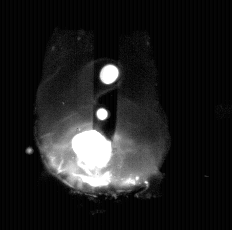arame: (93, 0, 118, 141)
poca: (35, 0, 167, 230)
